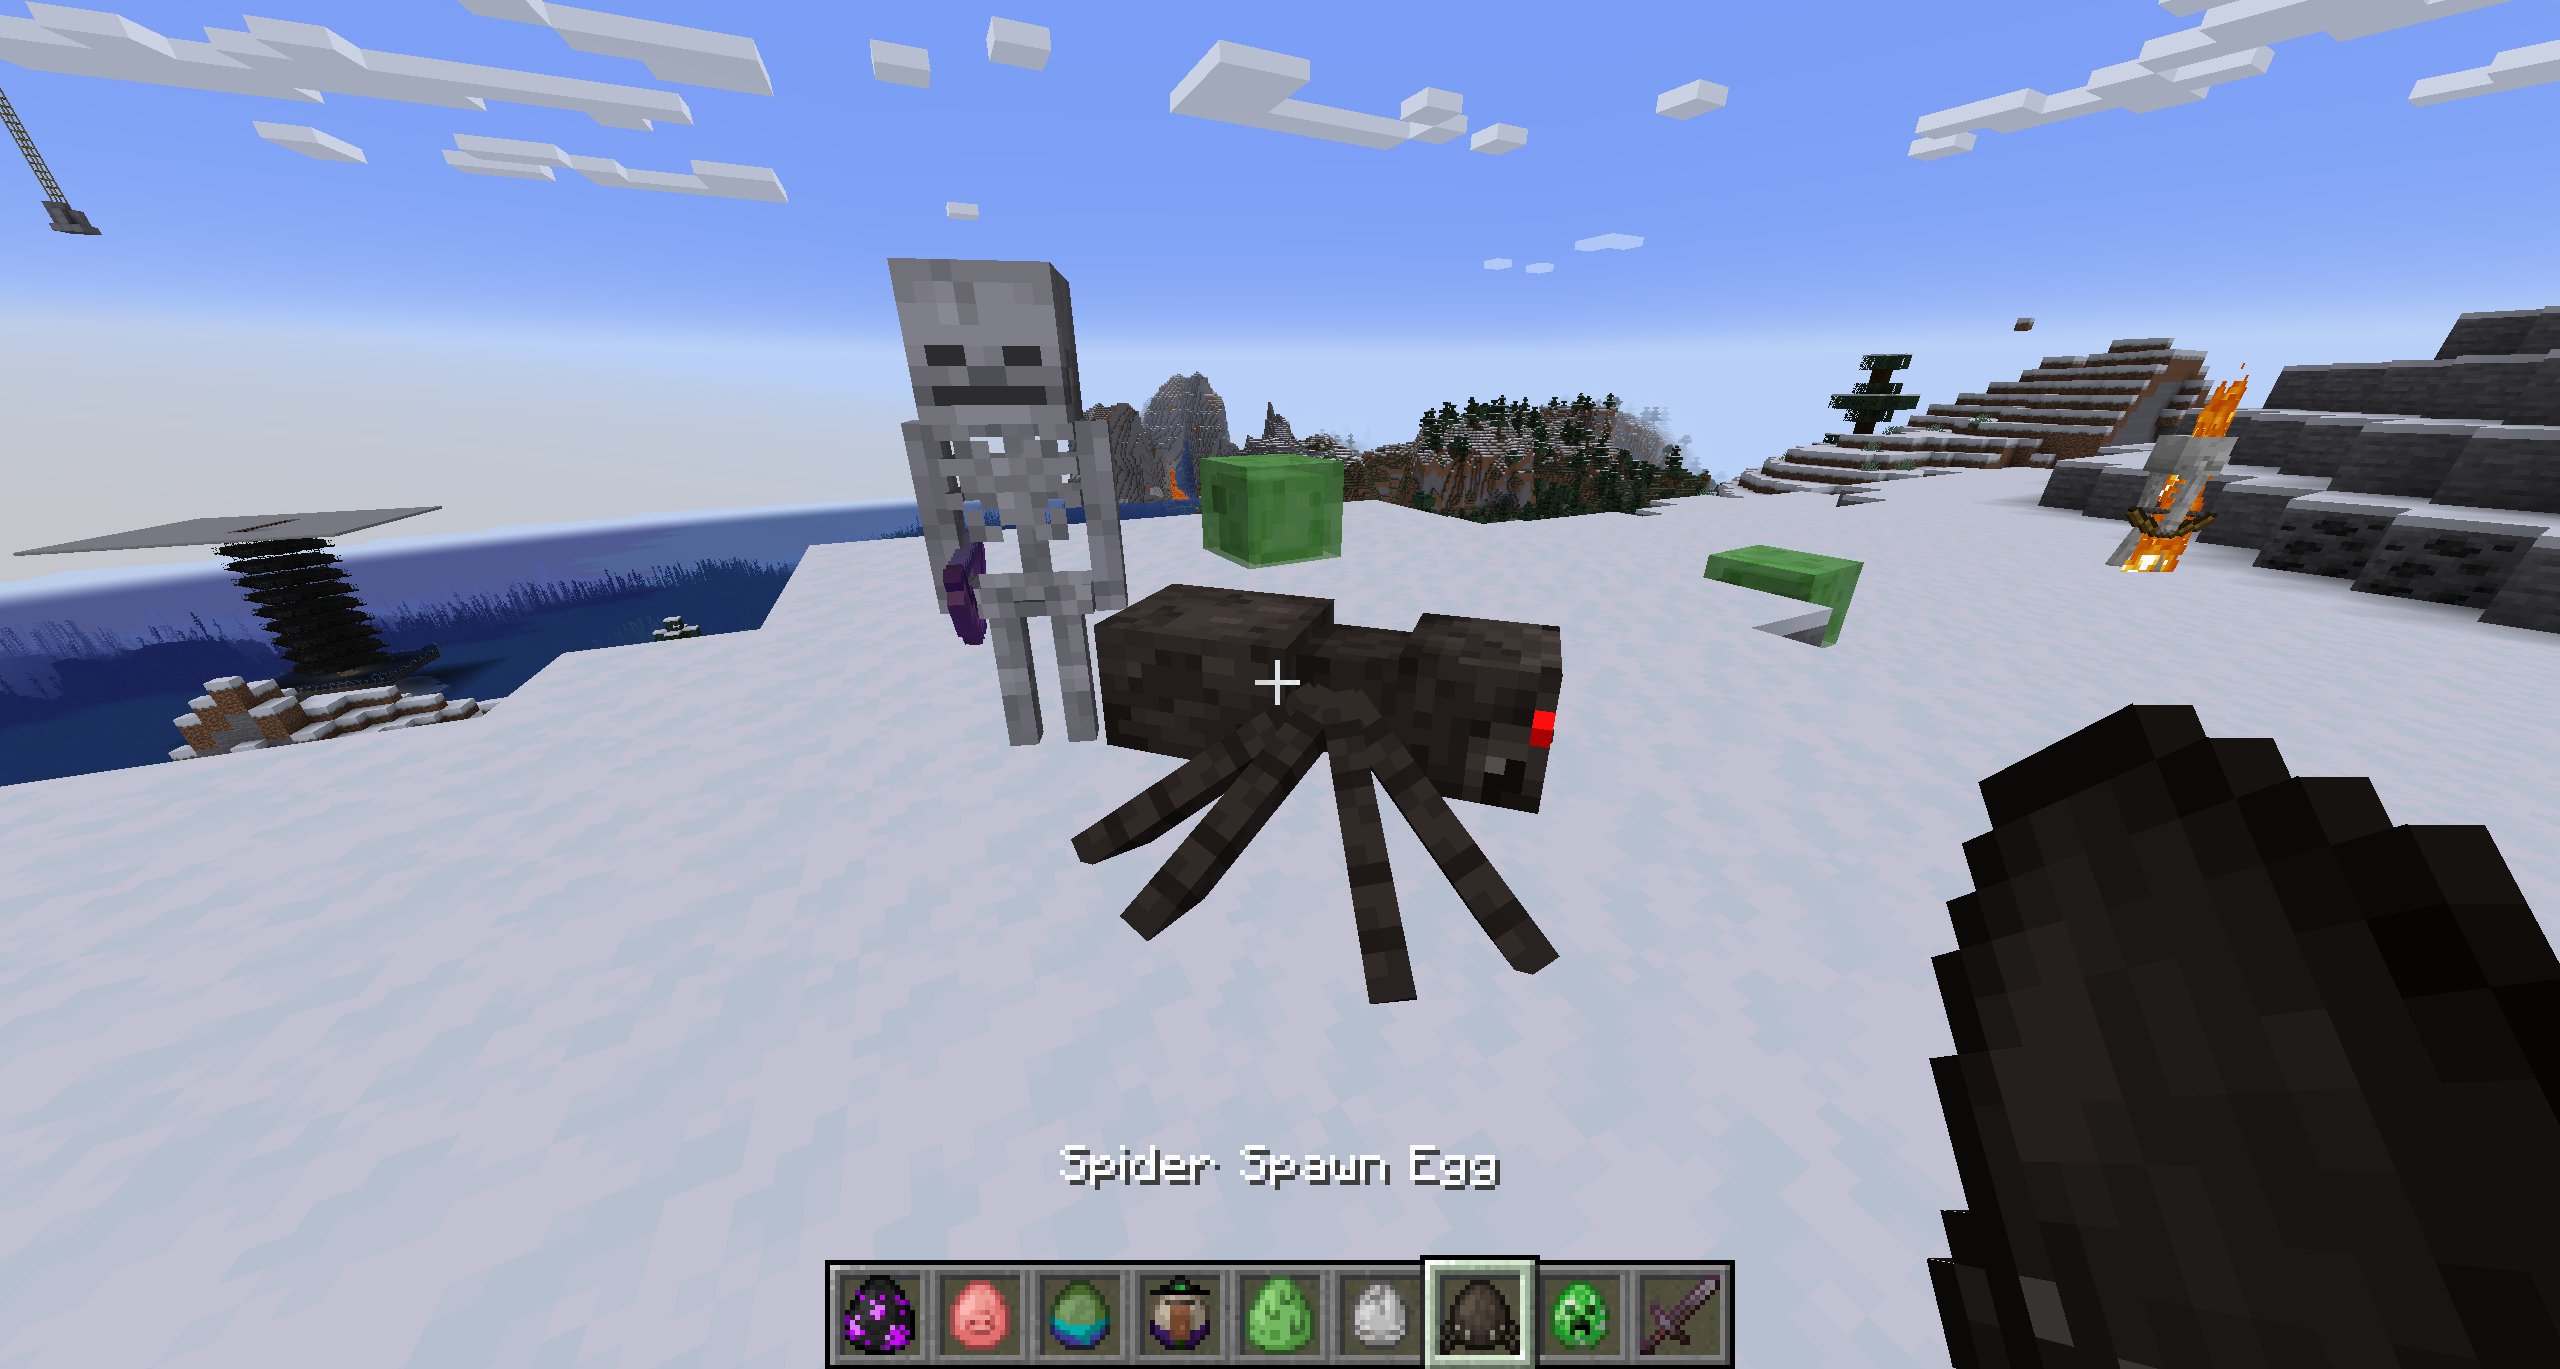araignees: (1089, 579, 1570, 956)
slimes: (1194, 448, 1354, 567)
squelettes: (877, 254, 1117, 758), (2135, 421, 2232, 580)
